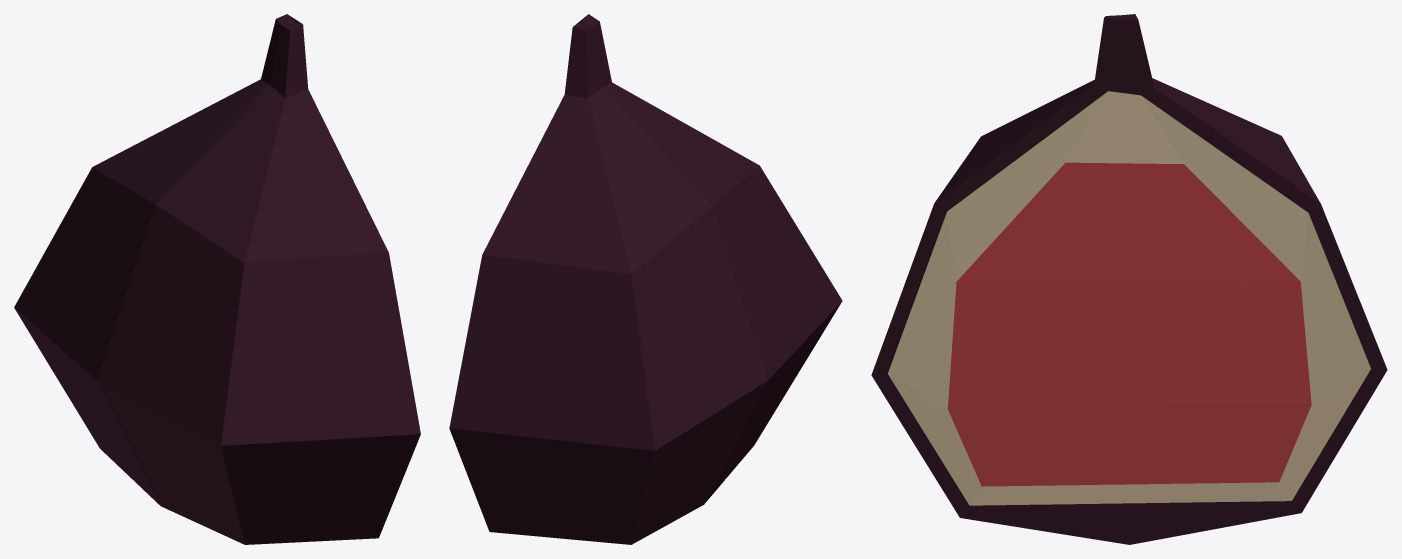
The model's file is figHalf.fbx.
3 renders of one model, left to right at view 1: azimuth 30°, elevation 25°; view 2: azimuth 150°, elevation 25°; view 3: azimuth 270°, elevation 25°, orthographic. The views are drawn at different scales.
Parts seen in each view (by area): view 1: figHalf; view 2: figHalf; view 3: figHalf.
Part boxes in pixels (<box>): figHalf: <box>14,14,420,544</box>; figHalf: <box>449,14,842,544</box>; figHalf: <box>871,14,1387,544</box>.
Bounding box in the file's own units: 3.09 × 7.15 × 6.4.
1 material, 1 textured.
